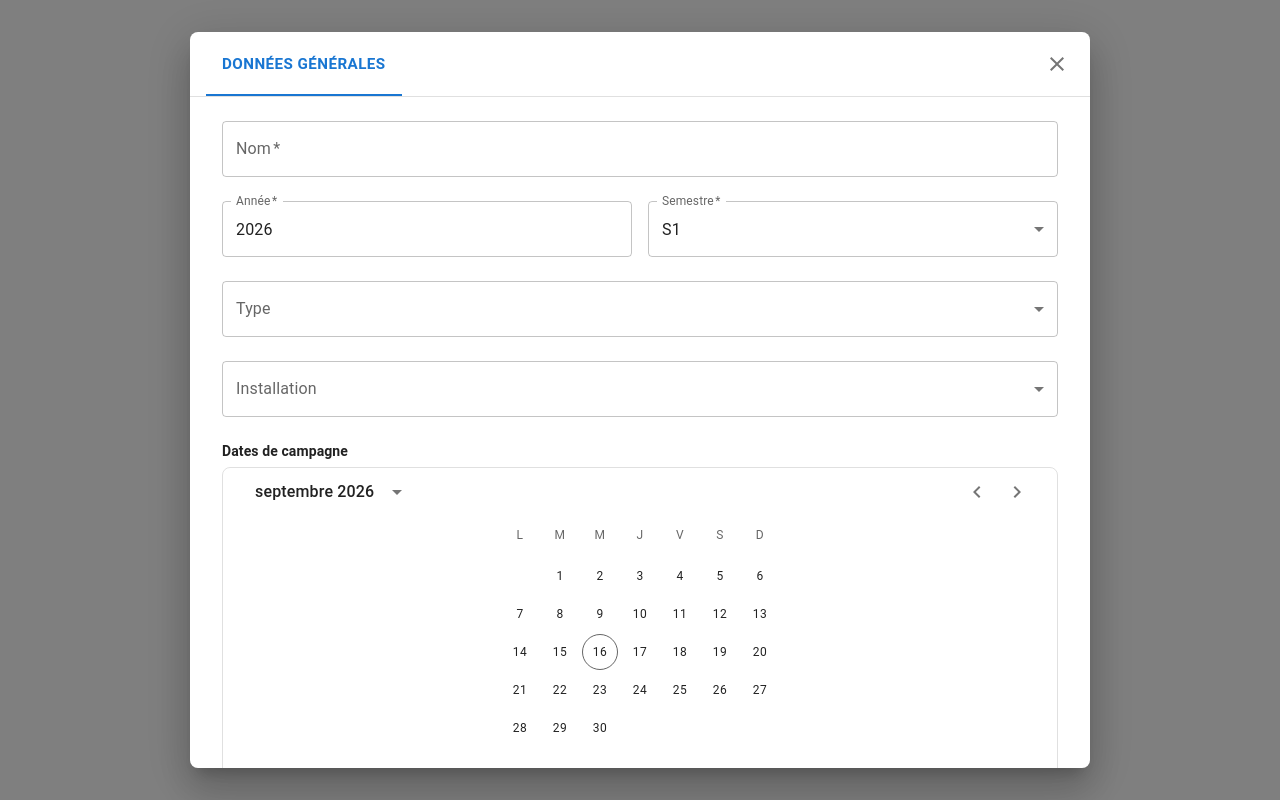
it: CreateCampaignModal › Type Selection › should select type on option click
Click the dropdown next to "Type".
click(640, 309)  # box [222,281,1058,337]
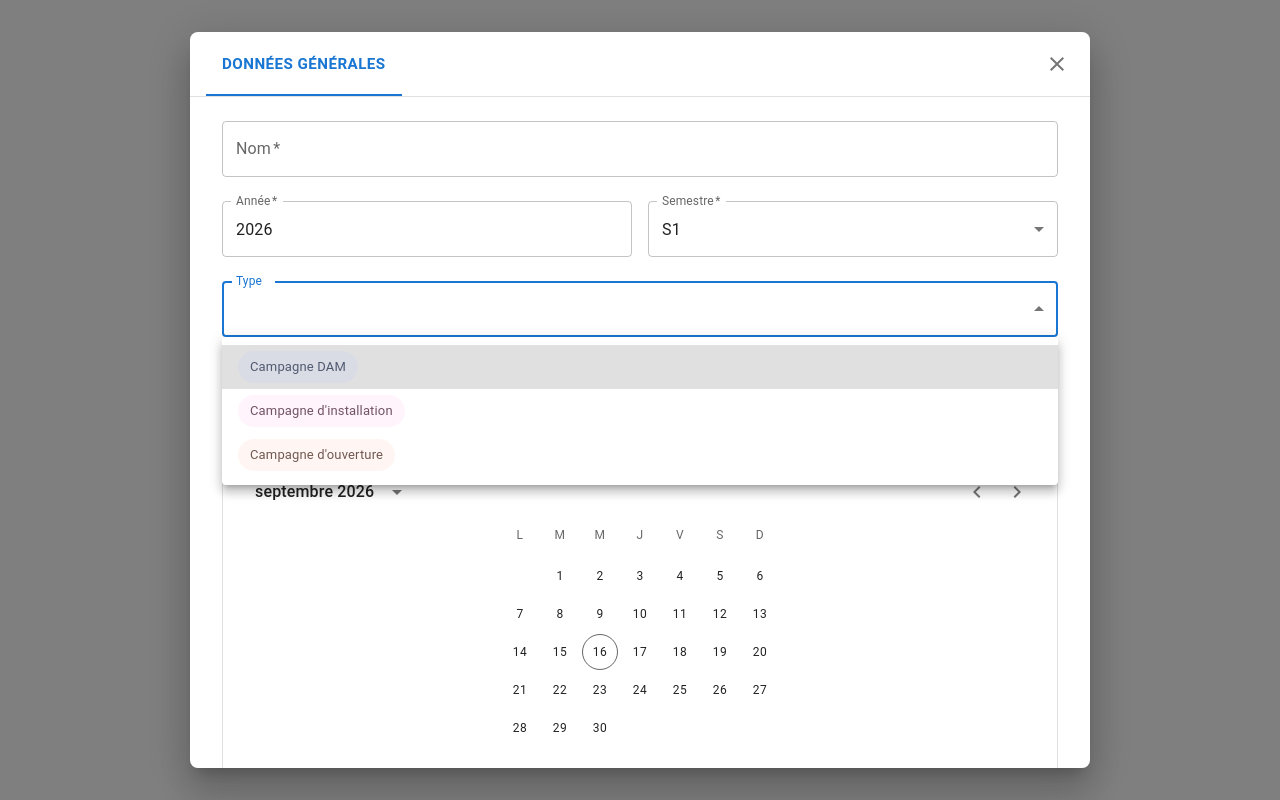
Click the option "Campagne DAM".
click(298, 367)  # box [222,345,1058,389]
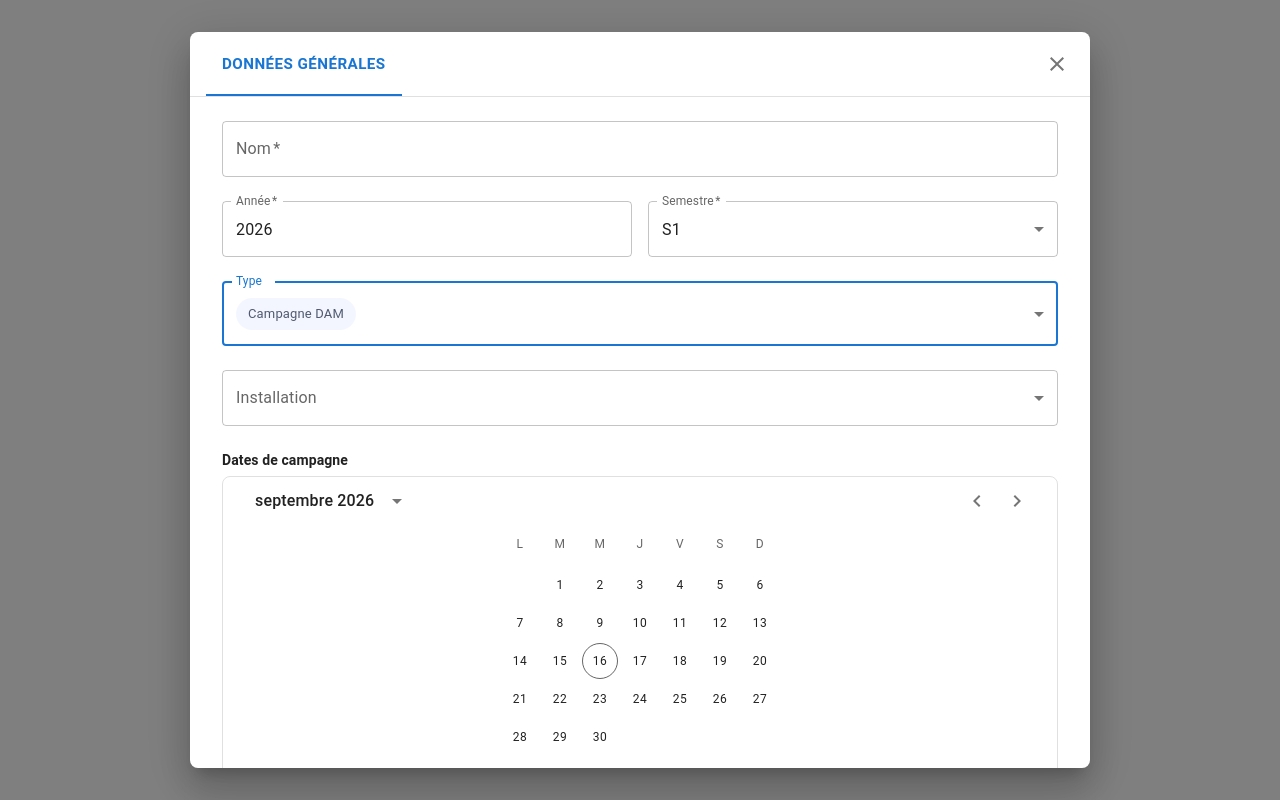
Expected: the dropdown labelled "Campagne DAM" is shown, [236,298,356,330]
